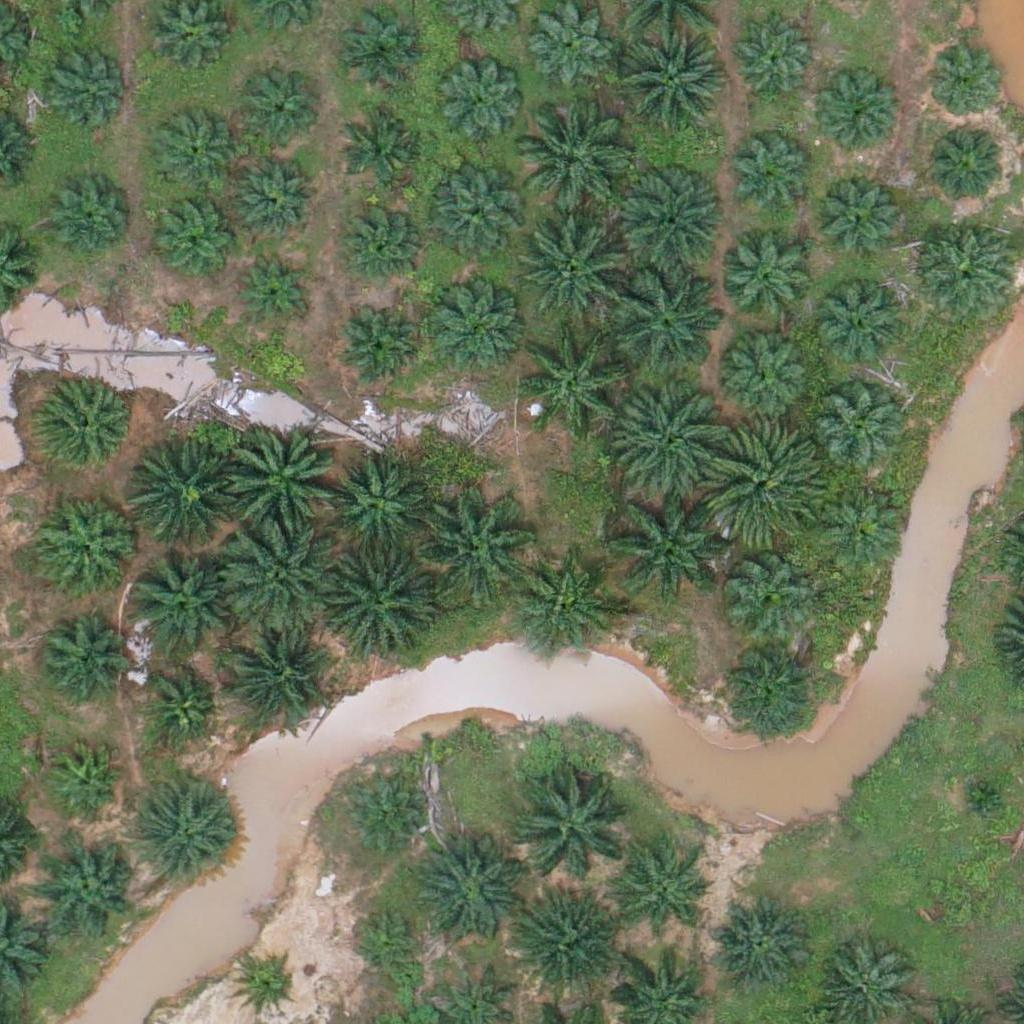Kelapa_Sawit: (319, 546, 432, 660), (608, 161, 721, 275), (516, 764, 629, 877), (410, 837, 523, 950), (707, 425, 820, 538), (612, 259, 725, 372), (126, 442, 239, 555), (619, 386, 731, 500), (608, 488, 720, 601), (506, 892, 618, 1005), (419, 488, 531, 601), (227, 521, 339, 634), (613, 31, 725, 144), (520, 325, 632, 438), (520, 216, 632, 329), (516, 104, 628, 217), (226, 425, 338, 538), (127, 551, 227, 652), (916, 217, 1016, 318), (808, 278, 908, 379), (425, 171, 525, 272), (326, 452, 426, 553), (718, 640, 818, 740), (709, 893, 809, 993), (515, 561, 615, 661), (225, 626, 325, 726), (135, 786, 235, 886), (38, 494, 138, 594), (41, 839, 141, 939), (718, 324, 818, 424), (722, 228, 822, 328), (424, 277, 524, 377), (36, 379, 136, 479), (722, 547, 810, 635), (338, 773, 426, 861), (35, 611, 123, 699), (819, 482, 907, 570), (728, 131, 816, 219), (437, 58, 525, 146), (37, 40, 125, 128), (336, 306, 424, 394), (620, 854, 707, 942), (727, 17, 814, 105), (816, 74, 903, 162), (923, 120, 1010, 208), (817, 390, 904, 478), (812, 169, 899, 257), (44, 175, 131, 263), (154, 192, 241, 280), (150, 107, 237, 195), (235, 68, 322, 156), (236, 152, 323, 240), (334, 196, 421, 284), (342, 99, 429, 187), (334, 2, 421, 90), (526, 3, 613, 91), (237, 249, 312, 325), (47, 742, 122, 818), (926, 47, 1001, 123), (142, 668, 217, 743), (350, 904, 425, 979), (235, 955, 298, 1018), (955, 770, 1005, 821)
